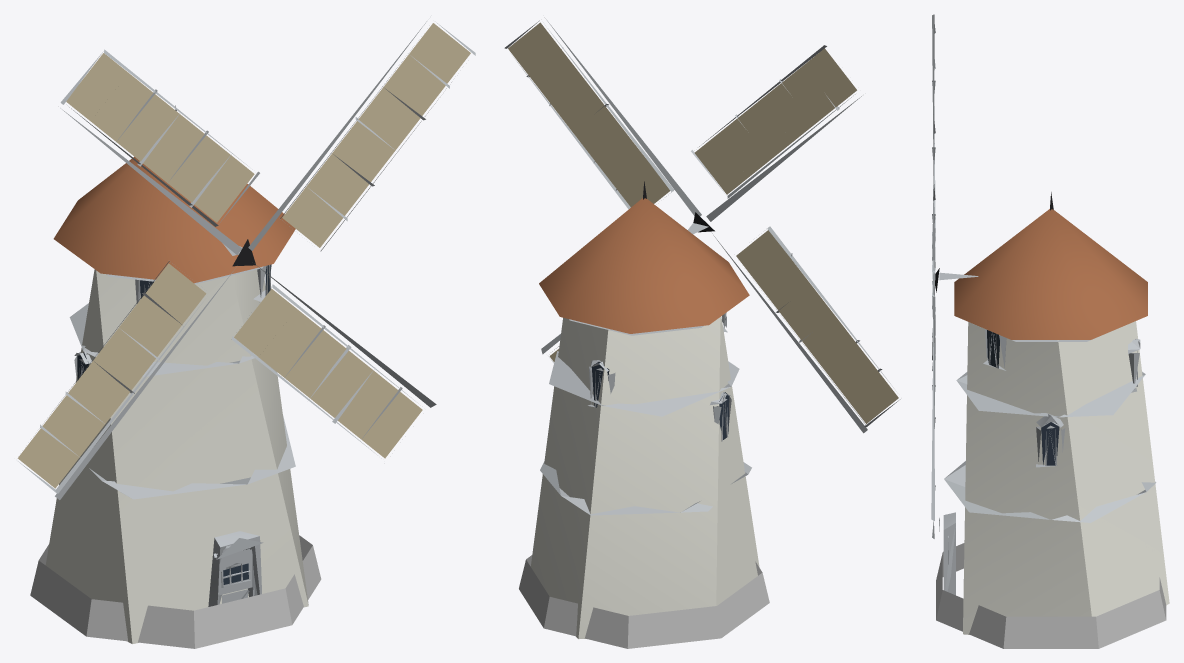
Rendered from generated.windmill.gltf.
3 renders of one model, left to right at view 1: azimuth 30°, elevation 25°; view 2: azimuth 150°, elevation 25°; view 3: azimuth 270°, elevation 25°, orthographic. The views are drawn at different scales.
Parts seen in each view (by area): view 1: lod; view 2: lod; view 3: lod.
Part boxes in pixels (x1,y1,x2,y2): lod: (17, 21, 475, 648); lod: (504, 17, 900, 648); lod: (931, 14, 1169, 648).
Bounding box in the file's own units: 12.53 × 16.17 × 6.6.
